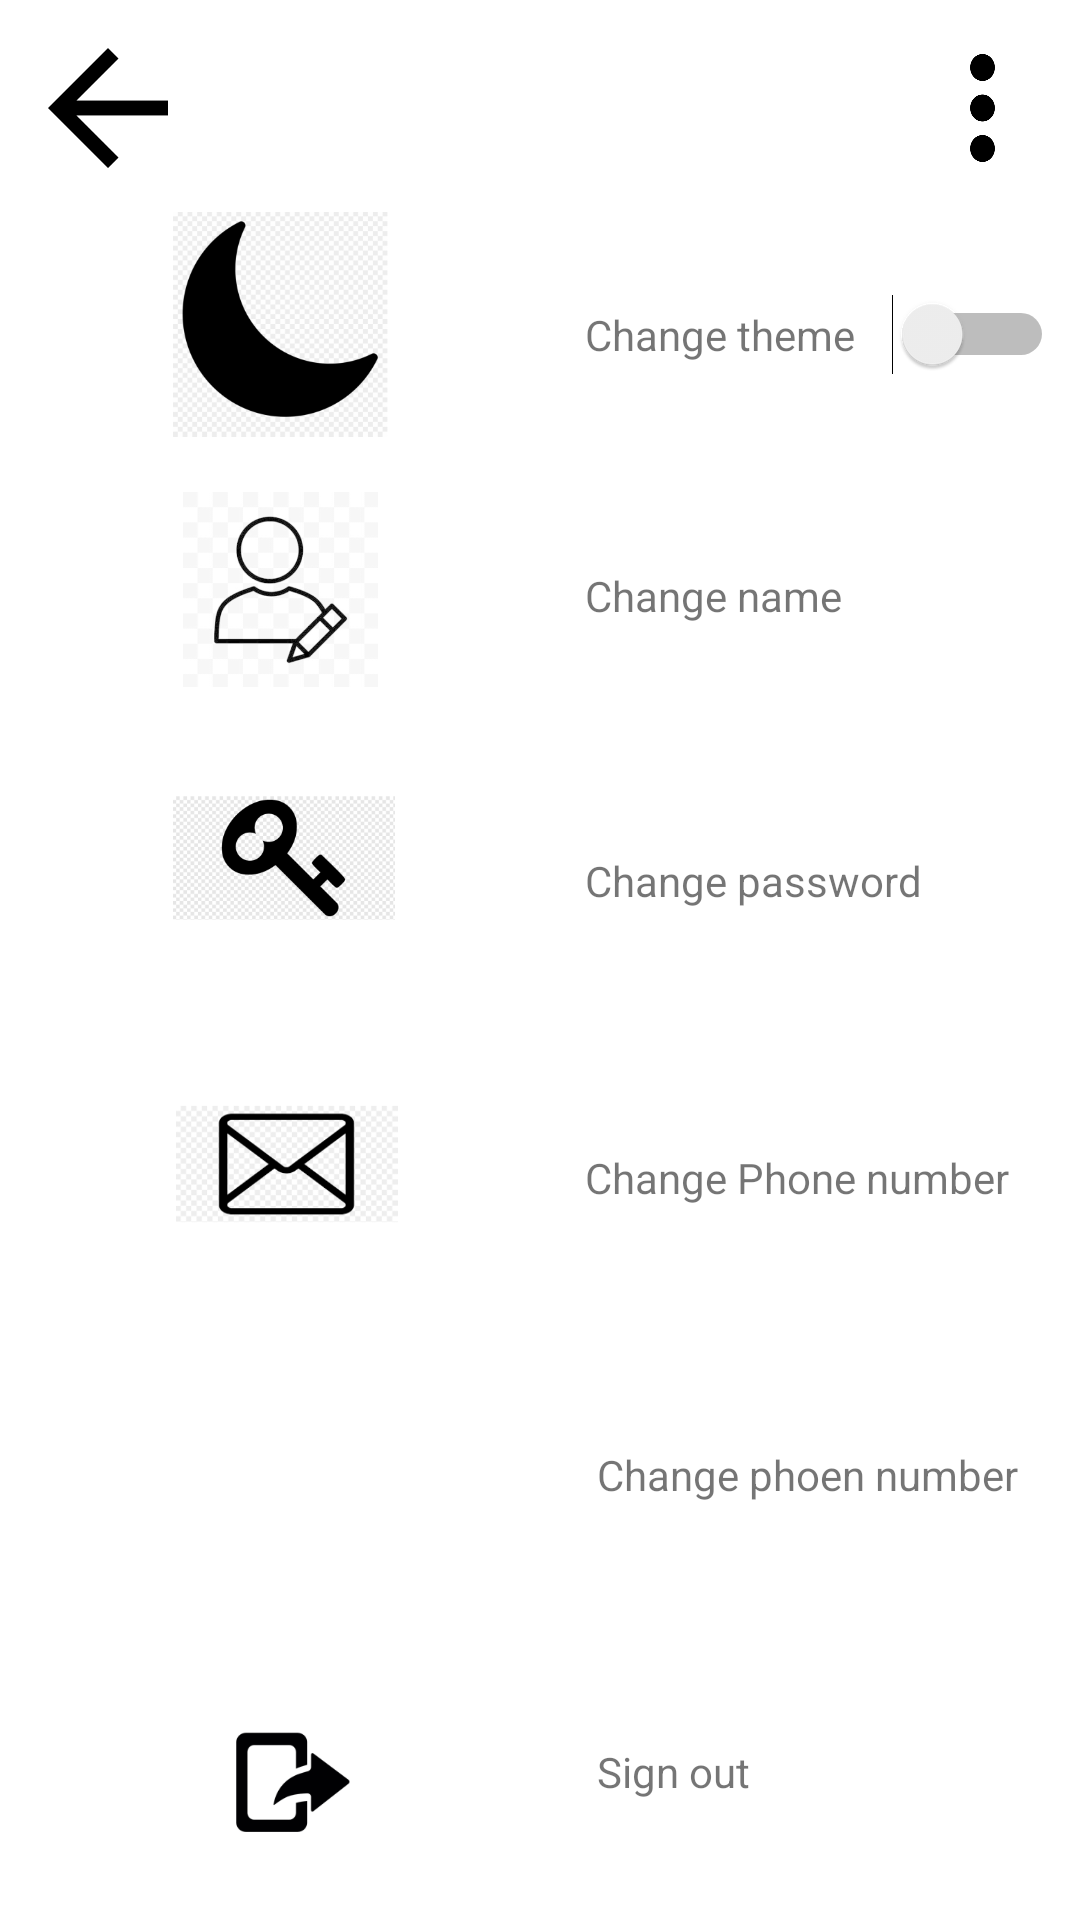

Icons on this 1080×1920 Android screen, each with its box as (x1, y1, x2, y2):
key: (173, 797, 395, 919)
mail: (218, 1113, 355, 1215)
moon: (182, 221, 378, 417)
profile: (214, 516, 347, 663)
sign out: (236, 1732, 350, 1832)
